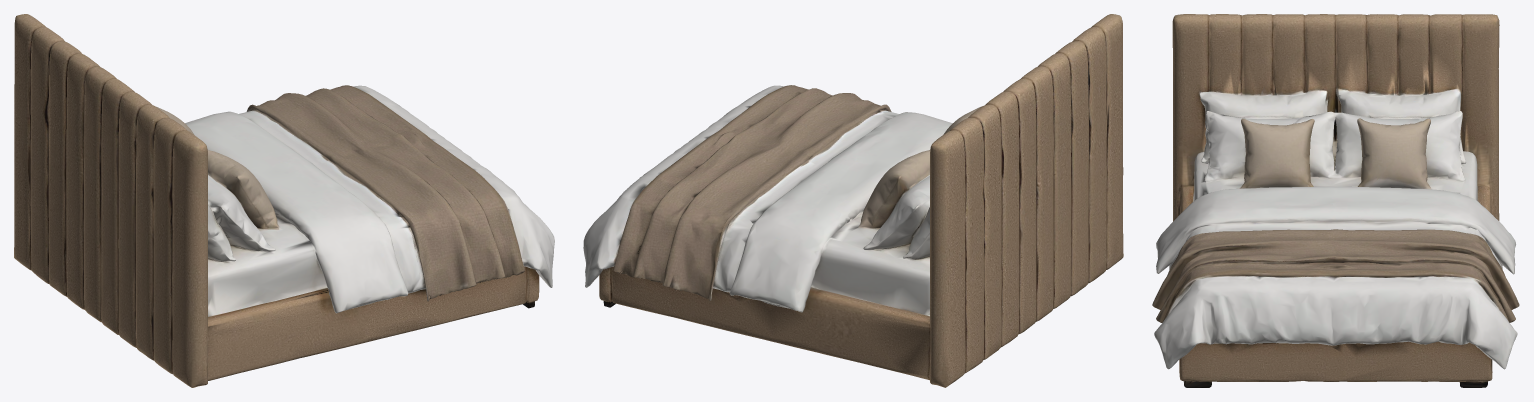
Rendered from m_bed.glb.
3 views of the same model, side by side, from view 1: azimuth 30°, elevation 25°; view 2: azimuth 150°, elevation 25°; view 3: azimuth 270°, elevation 25° (orthographic). The views are drawn at different scales.
Parts seen in each view (by area): view 1: tripo_node_7cf9f4c1-ab32-48e2-9579-25eb635b4d54; view 2: tripo_node_7cf9f4c1-ab32-48e2-9579-25eb635b4d54; view 3: tripo_node_7cf9f4c1-ab32-48e2-9579-25eb635b4d54.
Boxes of the visible parts, x1=… form: tripo_node_7cf9f4c1-ab32-48e2-9579-25eb635b4d54: x1=14, y1=14, x2=554, y2=387; tripo_node_7cf9f4c1-ab32-48e2-9579-25eb635b4d54: x1=583, y1=14, x2=1123, y2=387; tripo_node_7cf9f4c1-ab32-48e2-9579-25eb635b4d54: x1=1152, y1=14, x2=1519, y2=387.
Size of the model in its own units: 0.9999 by 0.6369 by 0.9429.
Materials: 1 (1 with a texture image).
